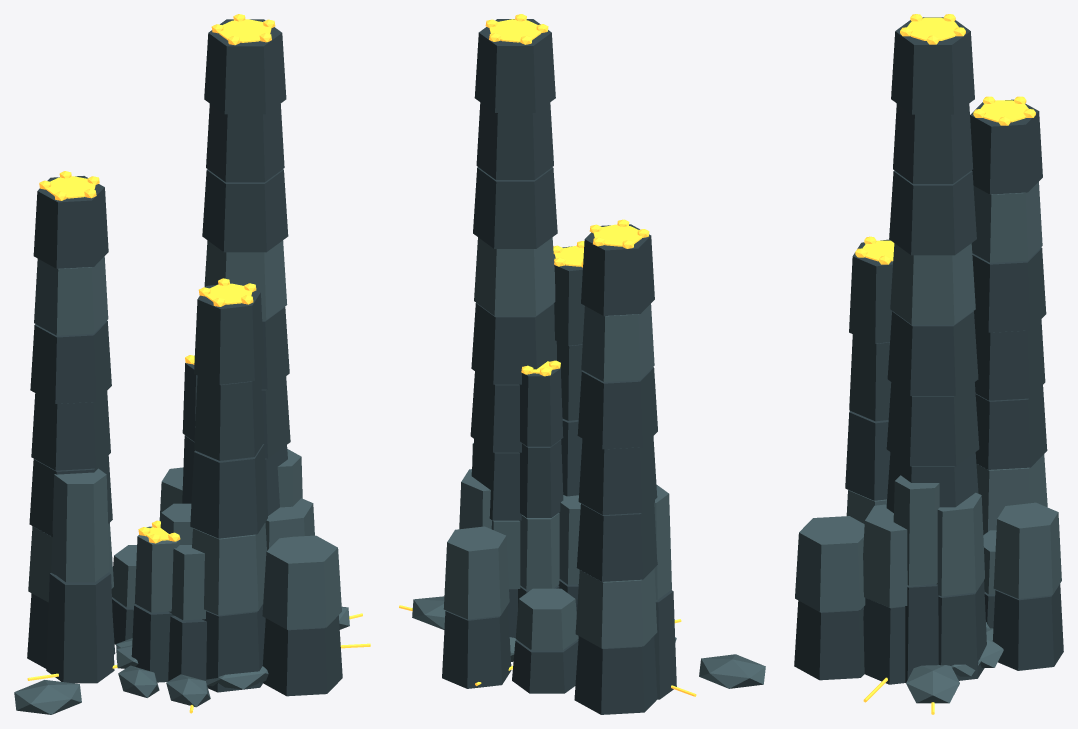
File: world-basalt.glb
3 renders of one model, left to right at view 1: azimuth 30°, elevation 25°; view 2: azimuth 150°, elevation 25°; view 3: azimuth 270°, elevation 25°, orthographic. The views are drawn at different scales.
Visible parts, largest first — view 1: world-basalt / Faceted blue basalt, world-basalt / Mineral basalt edge, world-basalt / Sulphur amber light; view 2: world-basalt / Faceted blue basalt, world-basalt / Mineral basalt edge, world-basalt / Sulphur amber light; view 3: world-basalt / Faceted blue basalt, world-basalt / Mineral basalt edge, world-basalt / Sulphur amber light.
Part boxes in pixels (x1,y1,x2,y2): world-basalt / Faceted blue basalt: (27, 19, 342, 696); world-basalt / Mineral basalt edge: (14, 240, 349, 714); world-basalt / Sulphur amber light: (27, 14, 370, 713); world-basalt / Faceted blue basalt: (442, 19, 676, 714); world-basalt / Mineral basalt edge: (412, 237, 765, 688); world-basalt / Sulphur amber light: (399, 14, 696, 696); world-basalt / Faceted blue basalt: (794, 17, 1063, 684); world-basalt / Mineral basalt edge: (795, 182, 1061, 703); world-basalt / Sulphur amber light: (855, 14, 1035, 714).
Bounding box in the file's own units: 10.61 × 17.73 × 6.79.
